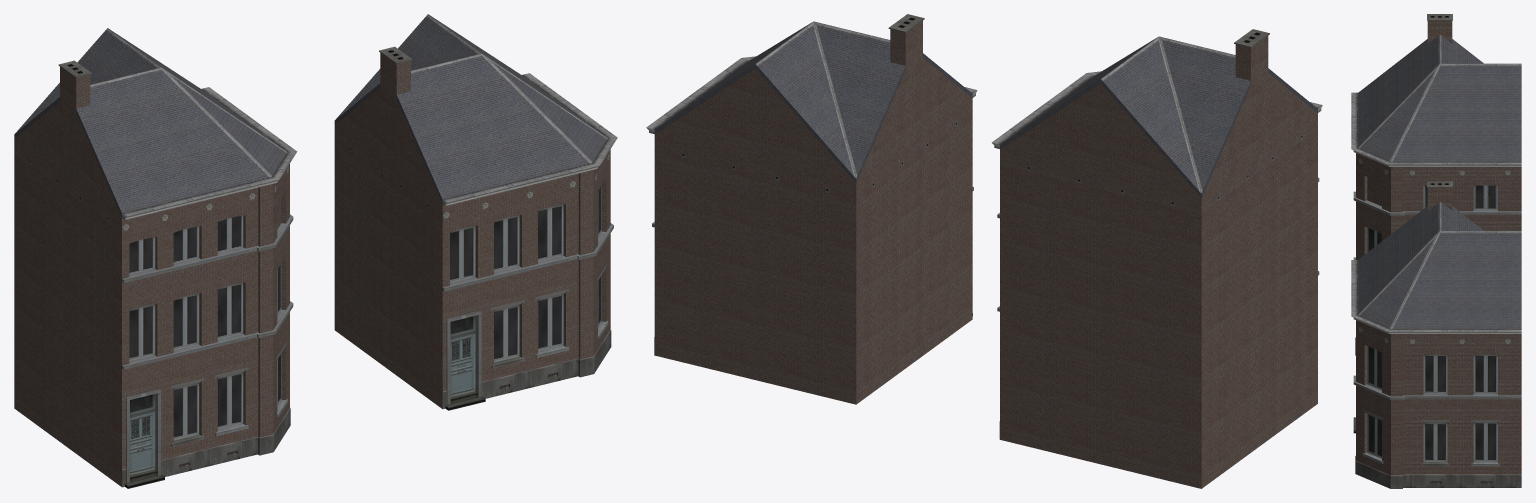
The model's file is nivelles_corner_house_1_belgium.glb.
3 renders of one model, left to right at view 1: azimuth 30°, elevation 25°; view 2: azimuth 150°, elevation 25°; view 3: azimuth 270°, elevation 25°, orthographic. The views are drawn at different scales.
Visible parts, largest first — view 1: corner 1 L2; view 2: corner 1 L2; view 3: corner 1 L2.
Boxes of the visible parts, bbox=[...] form: corner 1 L2: bbox=[14, 14, 617, 488]; corner 1 L2: bbox=[646, 14, 1322, 488]; corner 1 L2: bbox=[1351, 14, 1521, 488].
Size of the model in its own units: 19.33 by 13.5 by 7.3.
Materials: 1 (1 with a texture image).
